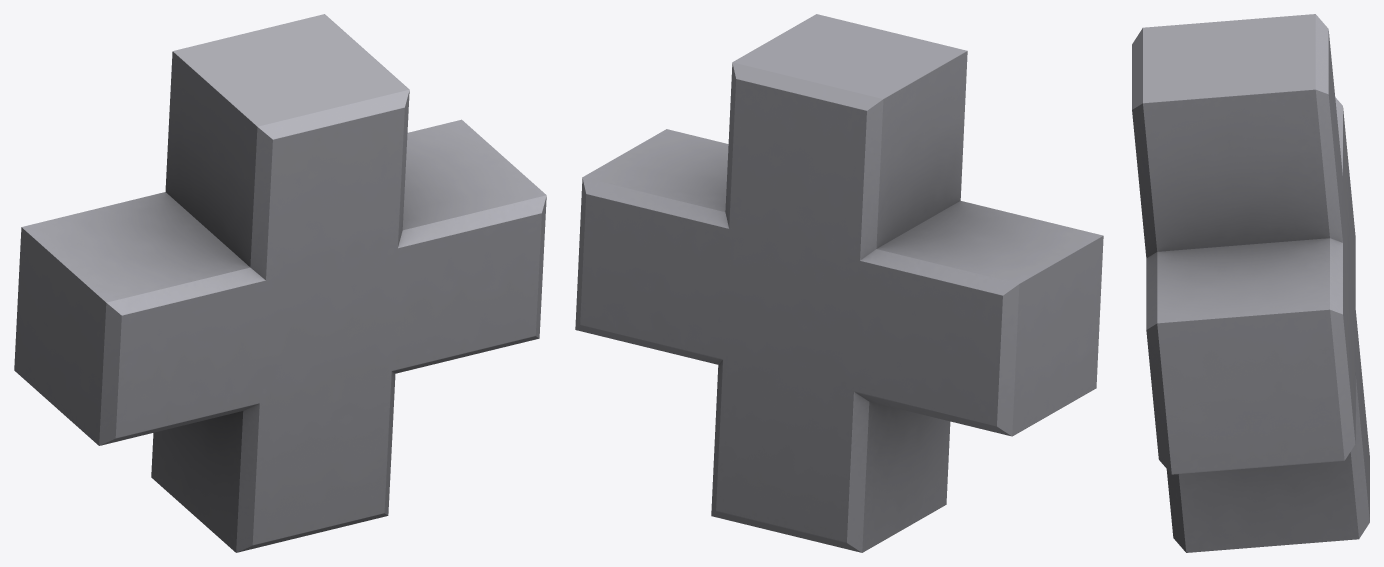
The model's file is Plus.FBX.
3 views of the same model, side by side, from view 1: azimuth 30°, elevation 25°; view 2: azimuth 150°, elevation 25°; view 3: azimuth 270°, elevation 25° (orthographic). The views are drawn at different scales.
Visible parts, largest first — view 1: plus; view 2: plus; view 3: plus.
Boxes of the visible parts, bbox=[...] form: plus: bbox=[14, 14, 546, 552]; plus: bbox=[575, 14, 1103, 552]; plus: bbox=[1132, 14, 1369, 552].
Bounding box in the file's own units: 86.52 × 85.47 × 39.78.
